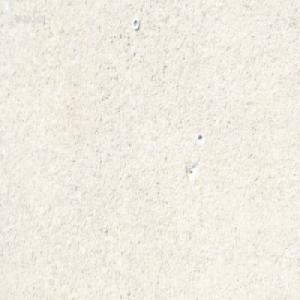Washer: (132, 17, 139, 31)
